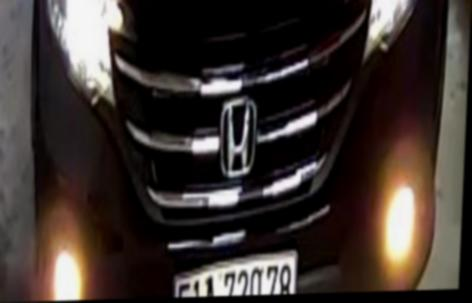License_Plate: (168, 249, 304, 297)
